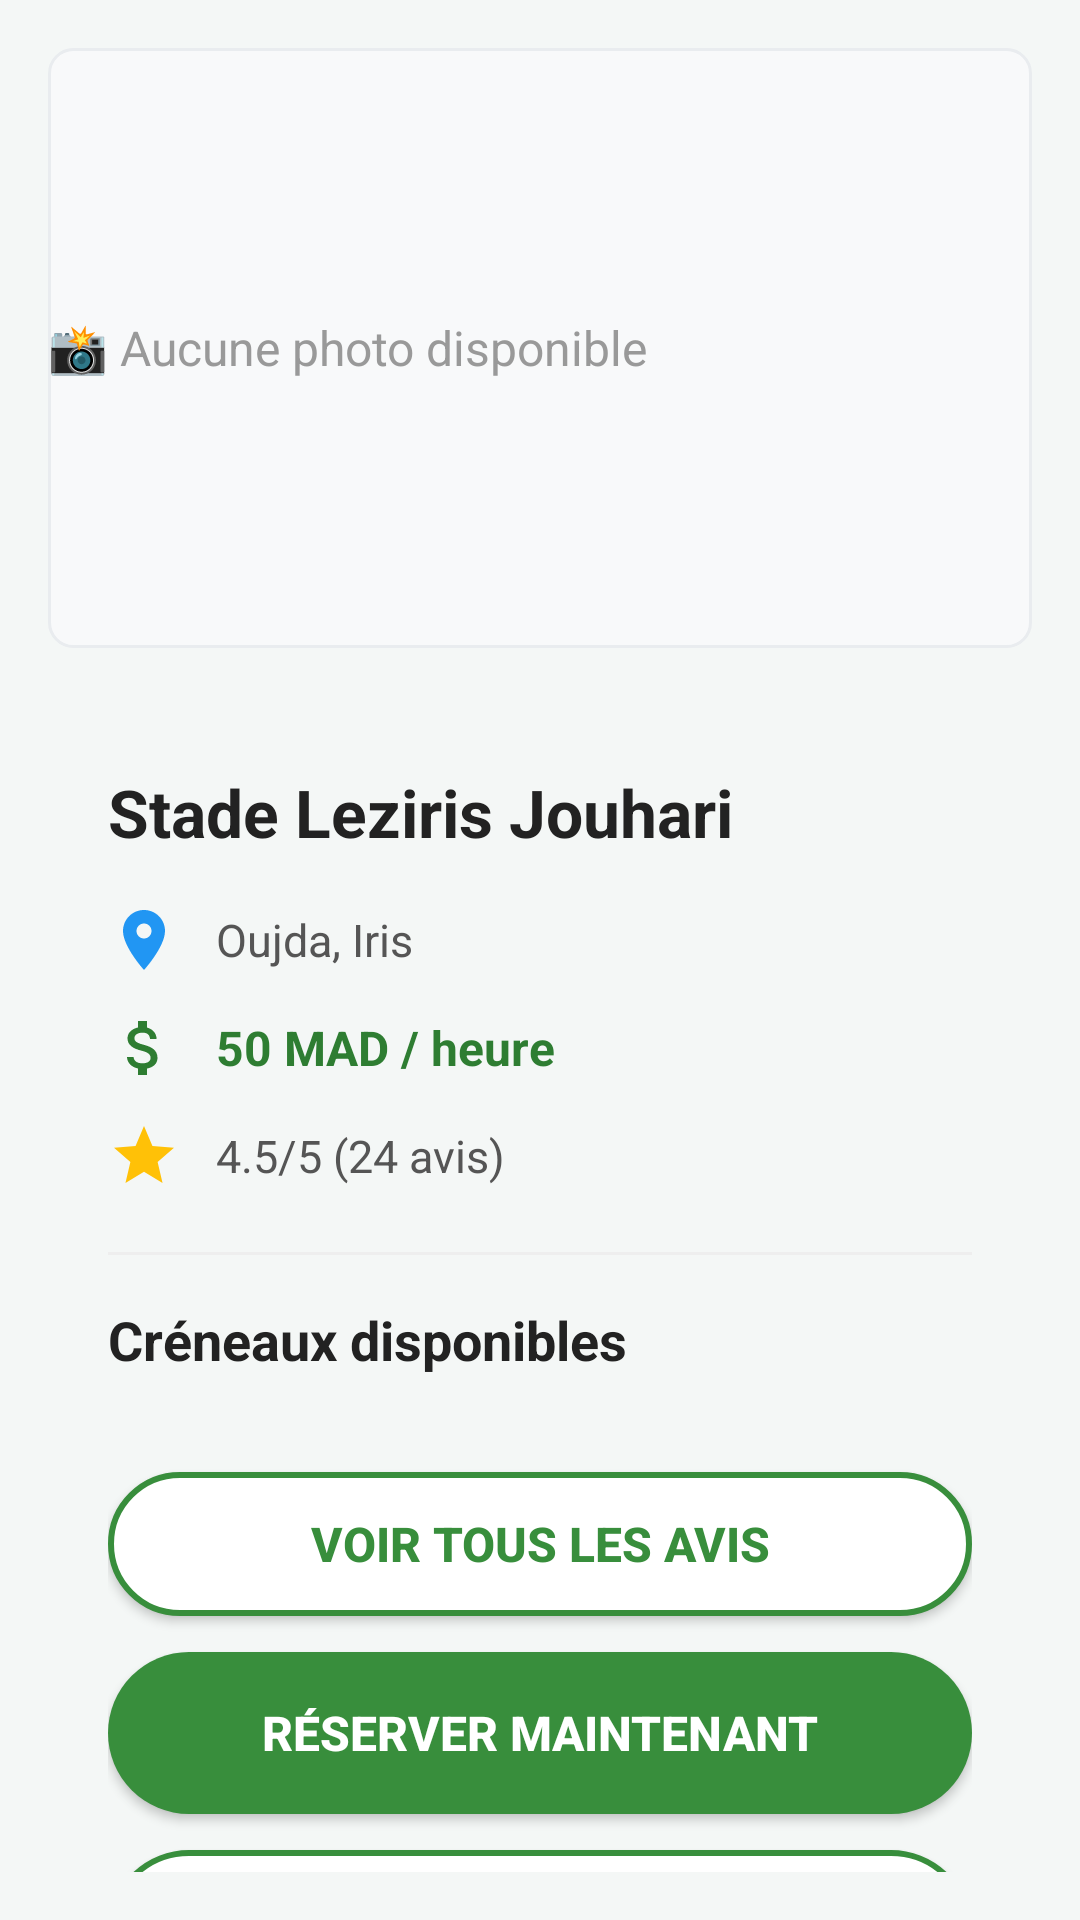

Icons on this 1080 x 1920 Android screen, each with its box as bbox=(x1, y1, x2, y2):
location: bbox=(123, 910, 165, 970)
price: bbox=(127, 1021, 158, 1075)
star: bbox=(114, 1126, 174, 1183)
